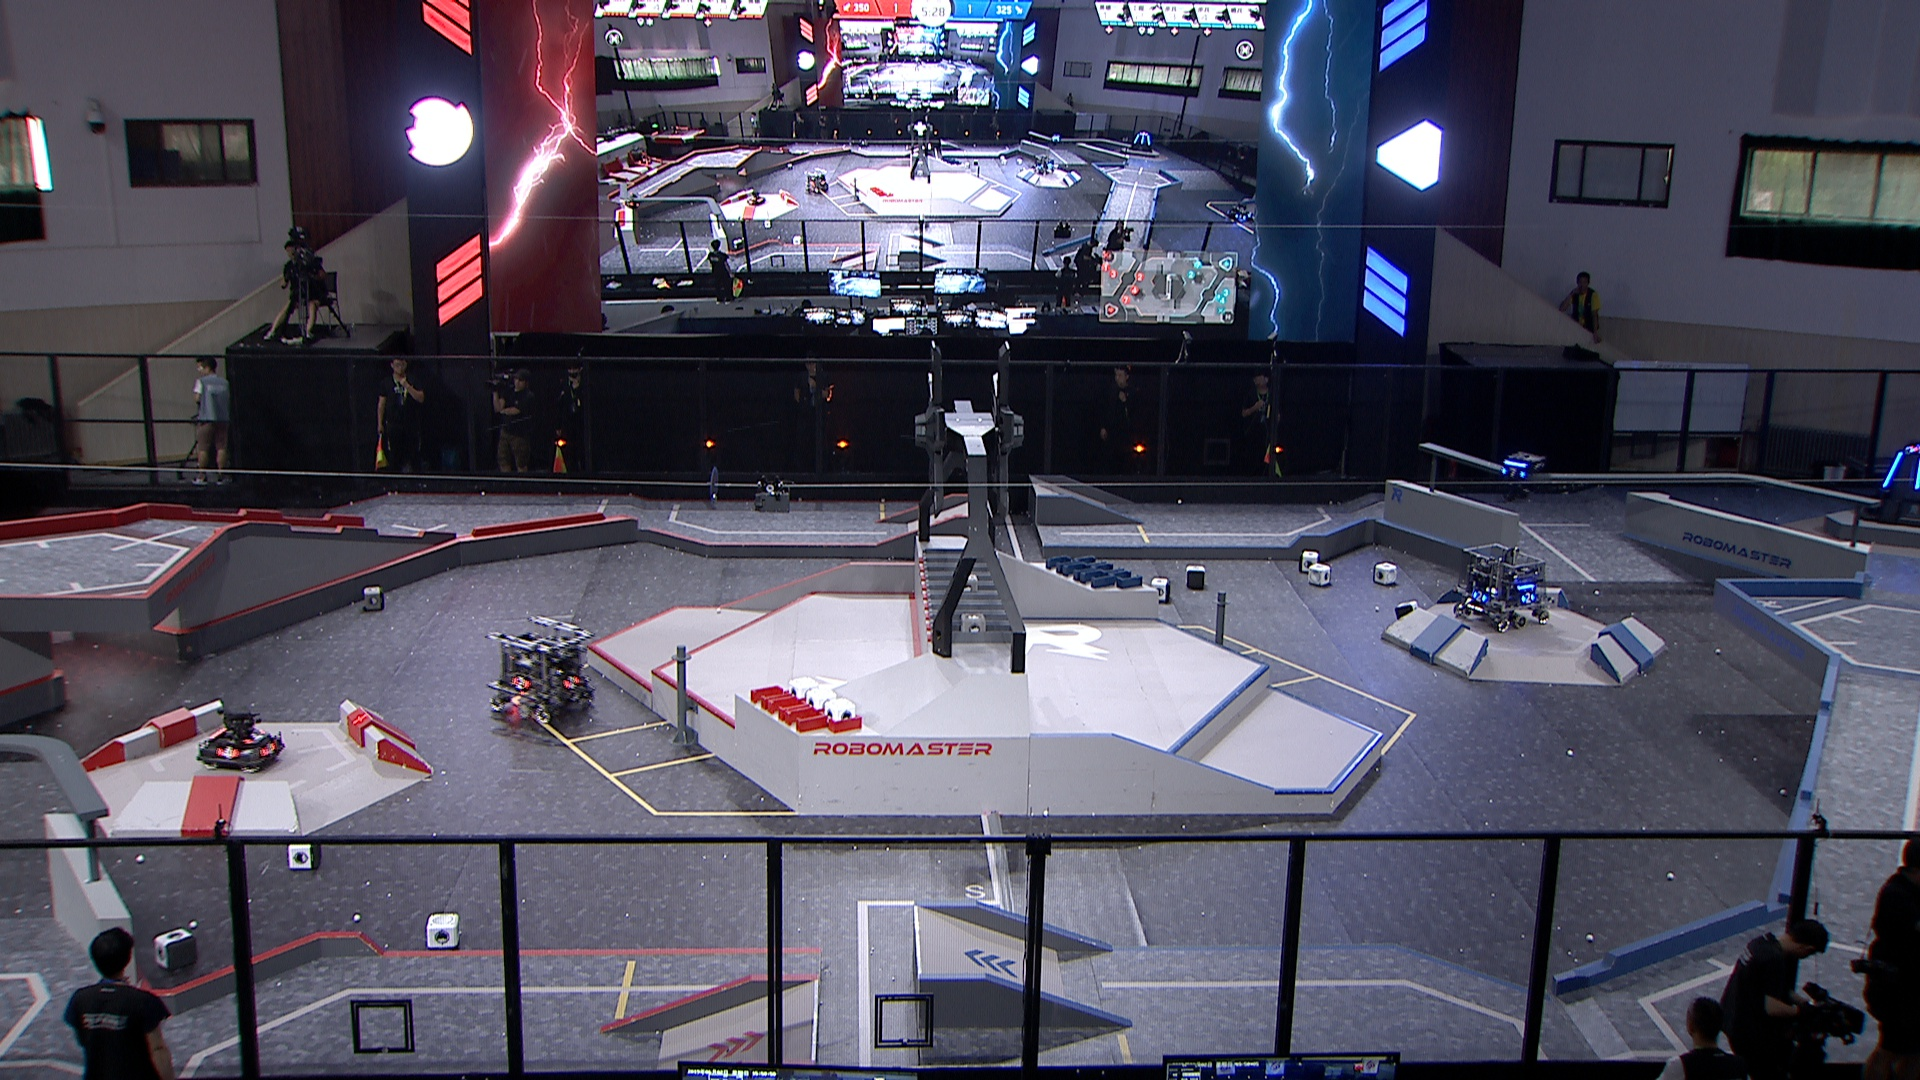armor: (1880, 450, 1905, 487), (1501, 465, 1527, 479), (562, 673, 582, 690), (245, 731, 266, 746), (510, 673, 529, 690), (258, 740, 277, 757), (215, 746, 237, 760), (1470, 589, 1489, 605), (1912, 460, 1920, 489), (1522, 589, 1538, 604)
base: (1854, 436, 1920, 531)
car: (485, 609, 597, 725), (1451, 538, 1552, 628), (191, 703, 285, 771)
ignore: (624, 146, 650, 171), (803, 169, 831, 191), (1033, 154, 1058, 178), (1226, 199, 1253, 222), (1127, 131, 1155, 152), (622, 190, 642, 216), (746, 189, 765, 207), (1048, 131, 1063, 146)
watcher: (1493, 451, 1555, 506)
